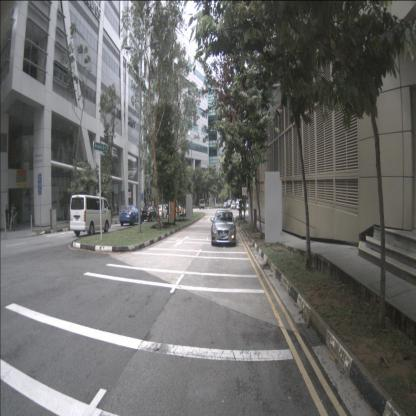human-pedestrian-adult: (8, 204, 16, 232), (13, 205, 20, 231), (5, 204, 10, 230), (117, 202, 119, 214)
vehicle-car: (70, 194, 112, 237), (211, 210, 236, 245), (119, 205, 143, 227), (140, 206, 158, 222), (154, 205, 168, 219), (174, 203, 184, 214), (230, 202, 236, 209), (227, 200, 232, 208), (223, 202, 228, 209)
vehicle-truck: (199, 199, 205, 209)
